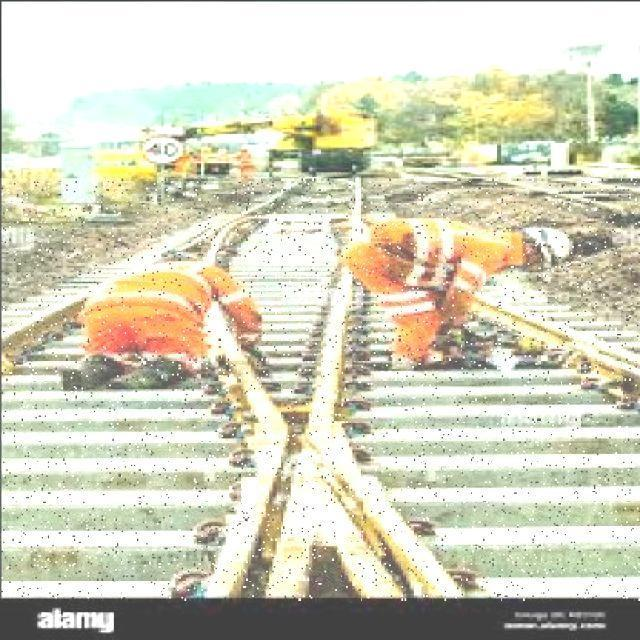rail: (1, 179, 640, 599)
